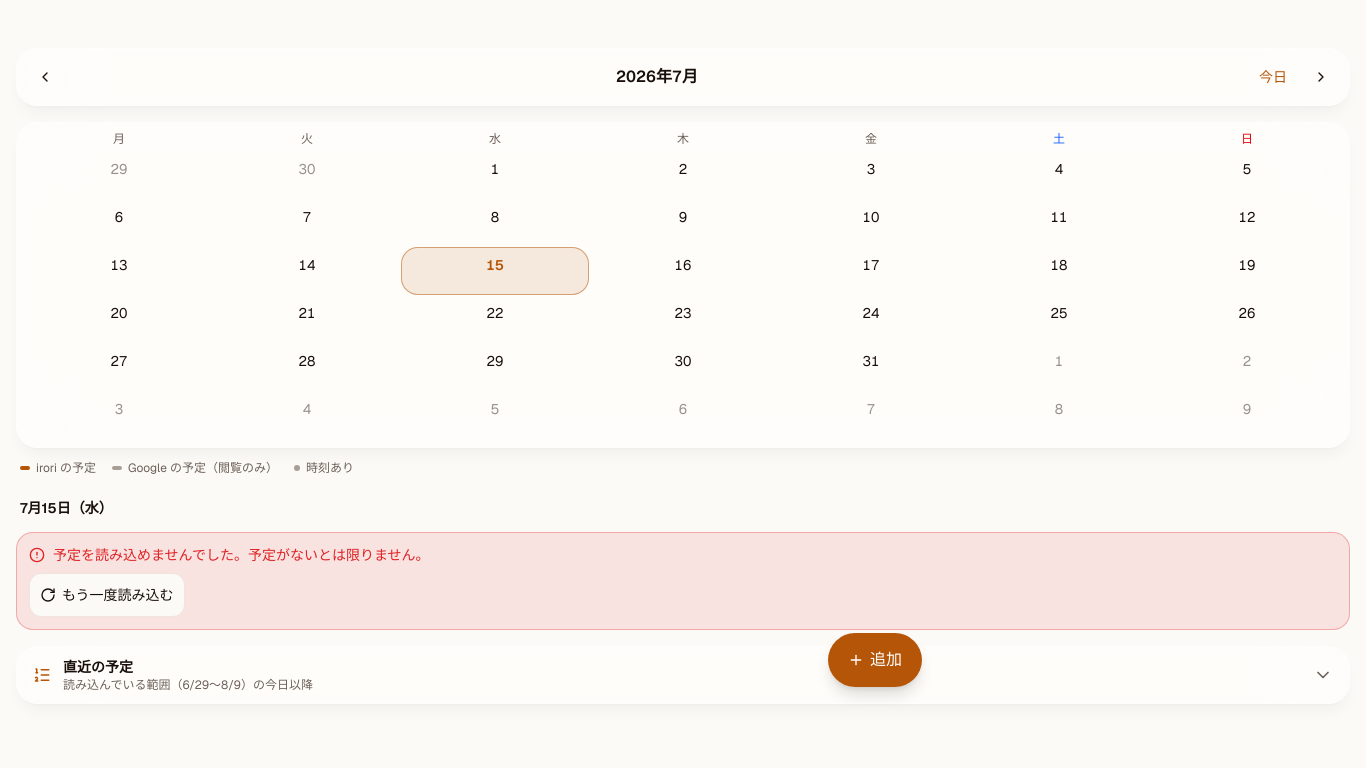
読み込み状態（読めなかった月を空と偽らぬ） › 初回の取得に失敗していれば「予定はありません」ではなく失敗と再試行を出す
The width and height of the screenshot is (1366, 768).
Check: the message shows "予定を読み込めませんでした", box [53, 546, 430, 564]
Check: the text "予定はありません" is not shown
// 再試行が通れば空の表示へ戻る
Click the button "もう一度読み込む" at (107,595), box [29, 573, 185, 617]
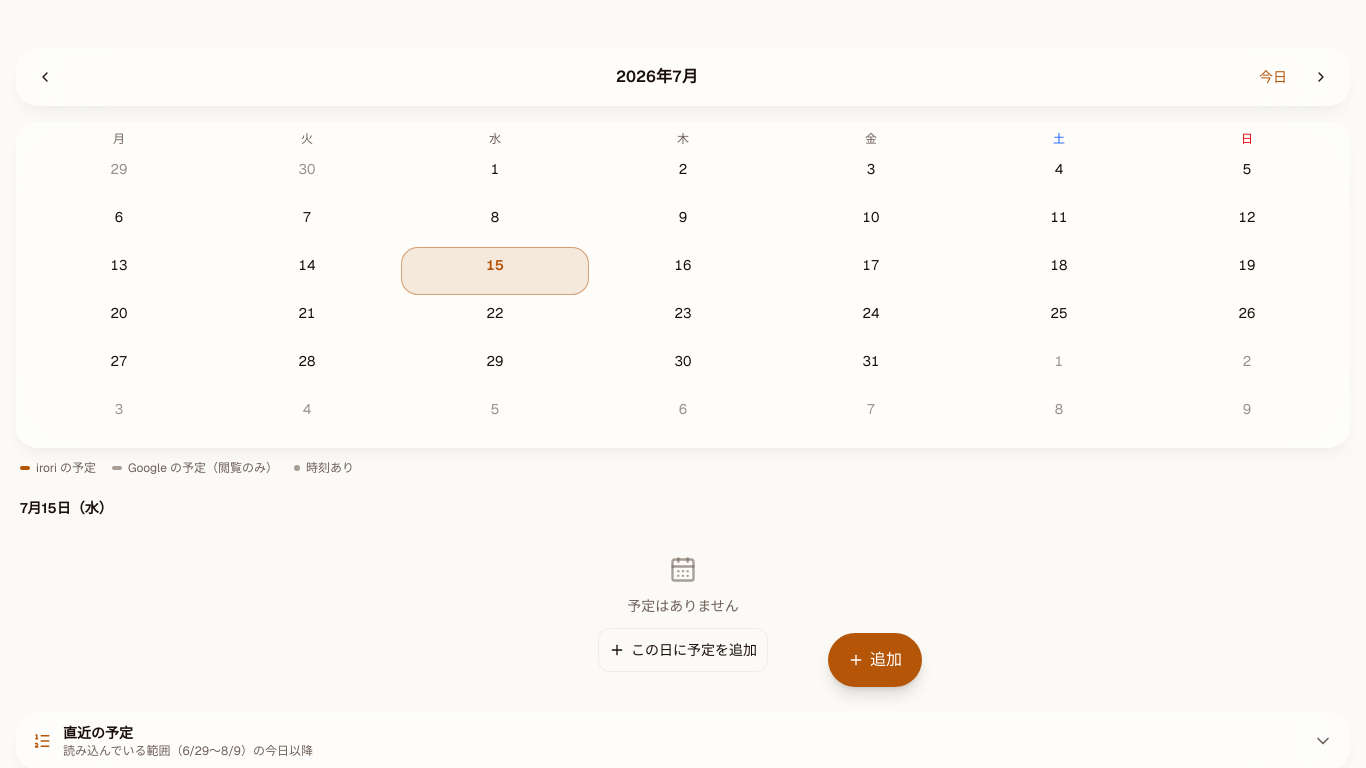
Check: the text "予定はありません" is shown, box [627, 596, 739, 616]
